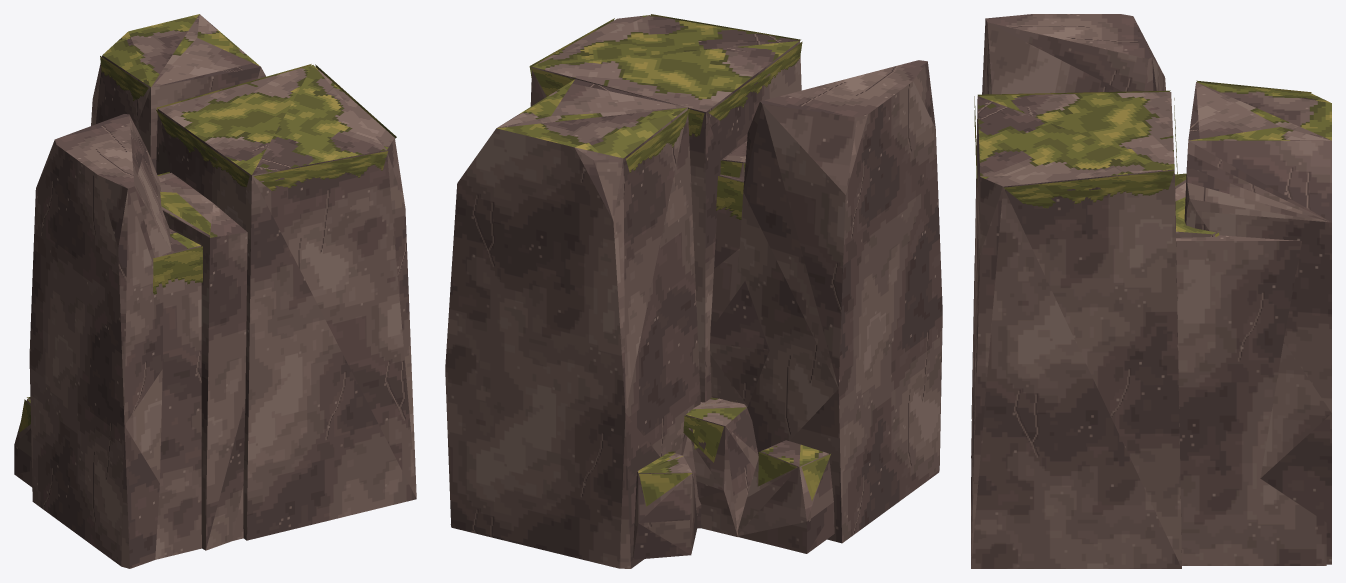
Rendered from SM_RK10_CliffCornerInner.fbx.
3 views of the same model, side by side, from view 1: azimuth 30°, elevation 25°; view 2: azimuth 150°, elevation 25°; view 3: azimuth 270°, elevation 25° (orthographic). The views are drawn at different scales.
Visible parts, largest first — view 1: RK10_Rock, RK10_RockTop, RK10_Moss; view 2: RK10_Rock, RK10_RockTop, RK10_Moss; view 3: RK10_Rock, RK10_RockTop, RK10_Moss.
Part boxes in pixels (x1,y1,x2,y2): RK10_Rock: (14,38,416,568); RK10_RockTop: (27,14,394,402); RK10_Moss: (19,56,396,432); RK10_Rock: (445,41,942,568); RK10_RockTop: (497,15,828,473); RK10_Moss: (529,14,830,506); RK10_Rock: (971,14,1331,568); RK10_RockTop: (977,82,1331,234); RK10_Moss: (974,80,1311,236).
Bounding box in the file's own units: 2.12 × 2.61 × 2.12.
